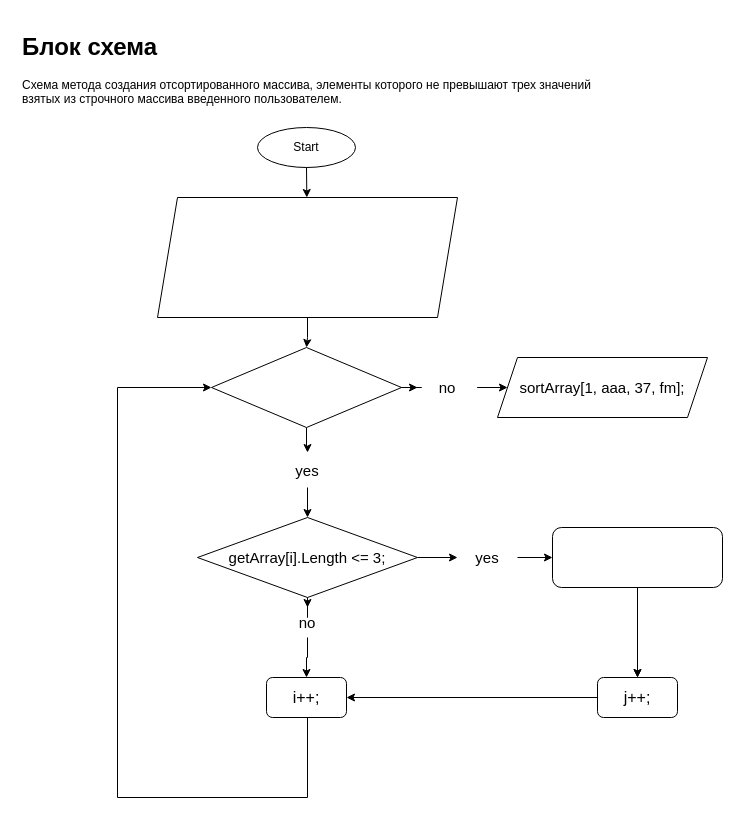
The diagram is 740 pixels wide and 823 high, and some of its shapes have lost their labels. The shapes that lost their labels are listed below. From the top down, each one's centre as x and y in pixels, then its label:
(x=307, y=257): i = 0; j = 0; getArray[1, fjfh, 4444, aaa, 37, fm]; sortArray[]
(x=306, y=387): i < getArray.Length;
(x=637, y=557): sortArray[j] = getArray[i];
